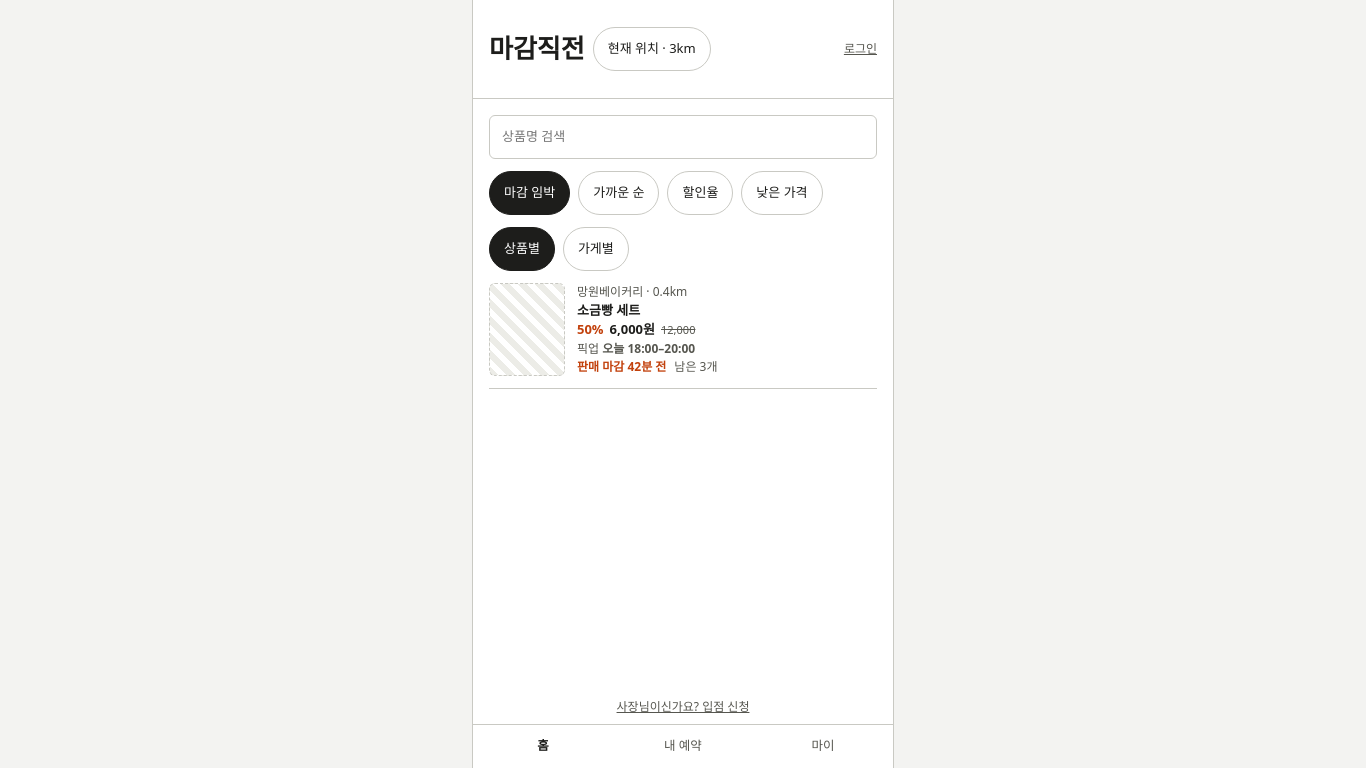
Test: HomePage (C1·C1a) › C1a: 위치 칩을 누르면 .dim 안 시트가 열리고 목록 대신 보이며 첫 포커스는 「◎ 현재 위치 사용」
Click the button "현재 위치 · 3km": (652, 49) [593,27,711,71]
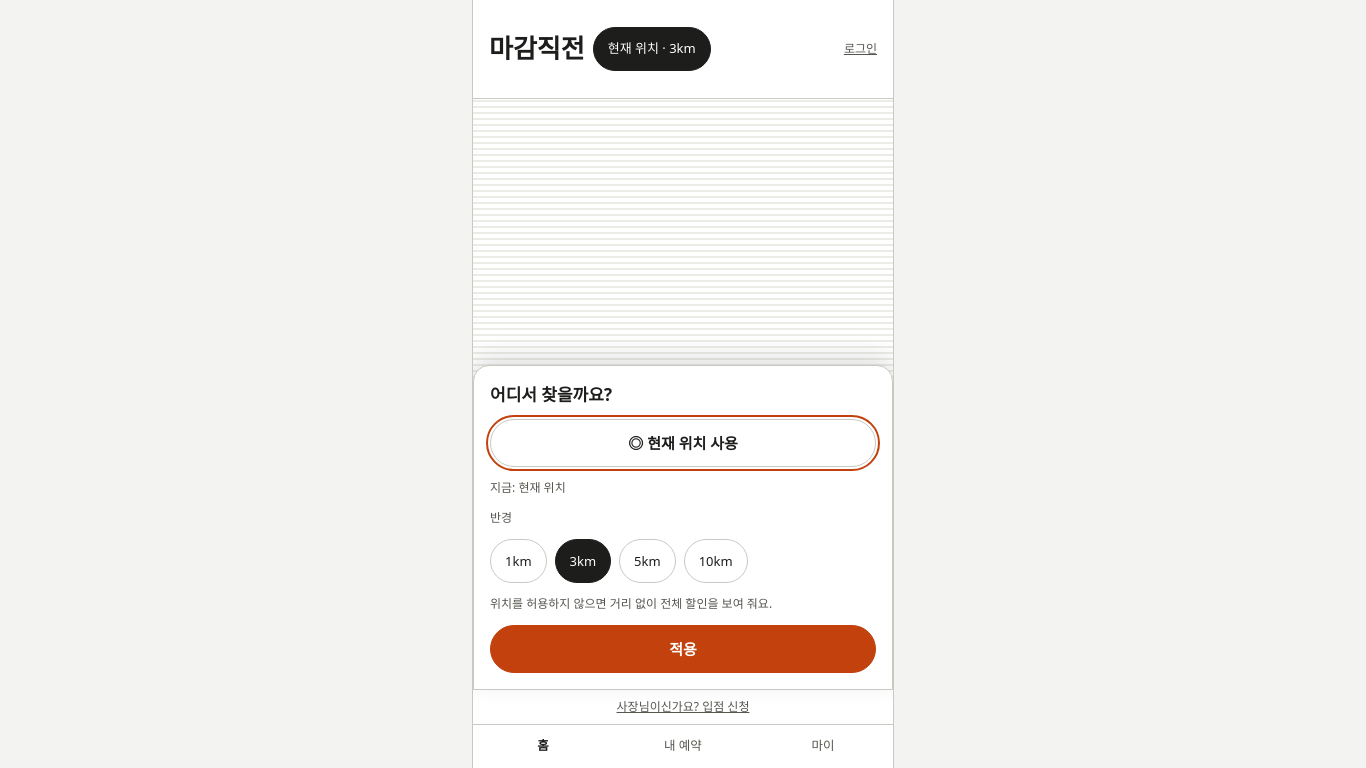
expect the element "어디서 찾을까요?" is shown: met, box [473,99,893,690]
expect the button "현재 위치 · 3km" is expanded: met, box [593,27,711,71]
expect the text "지금: 현재 위치" is shown: met, box [490,479,566,496]
